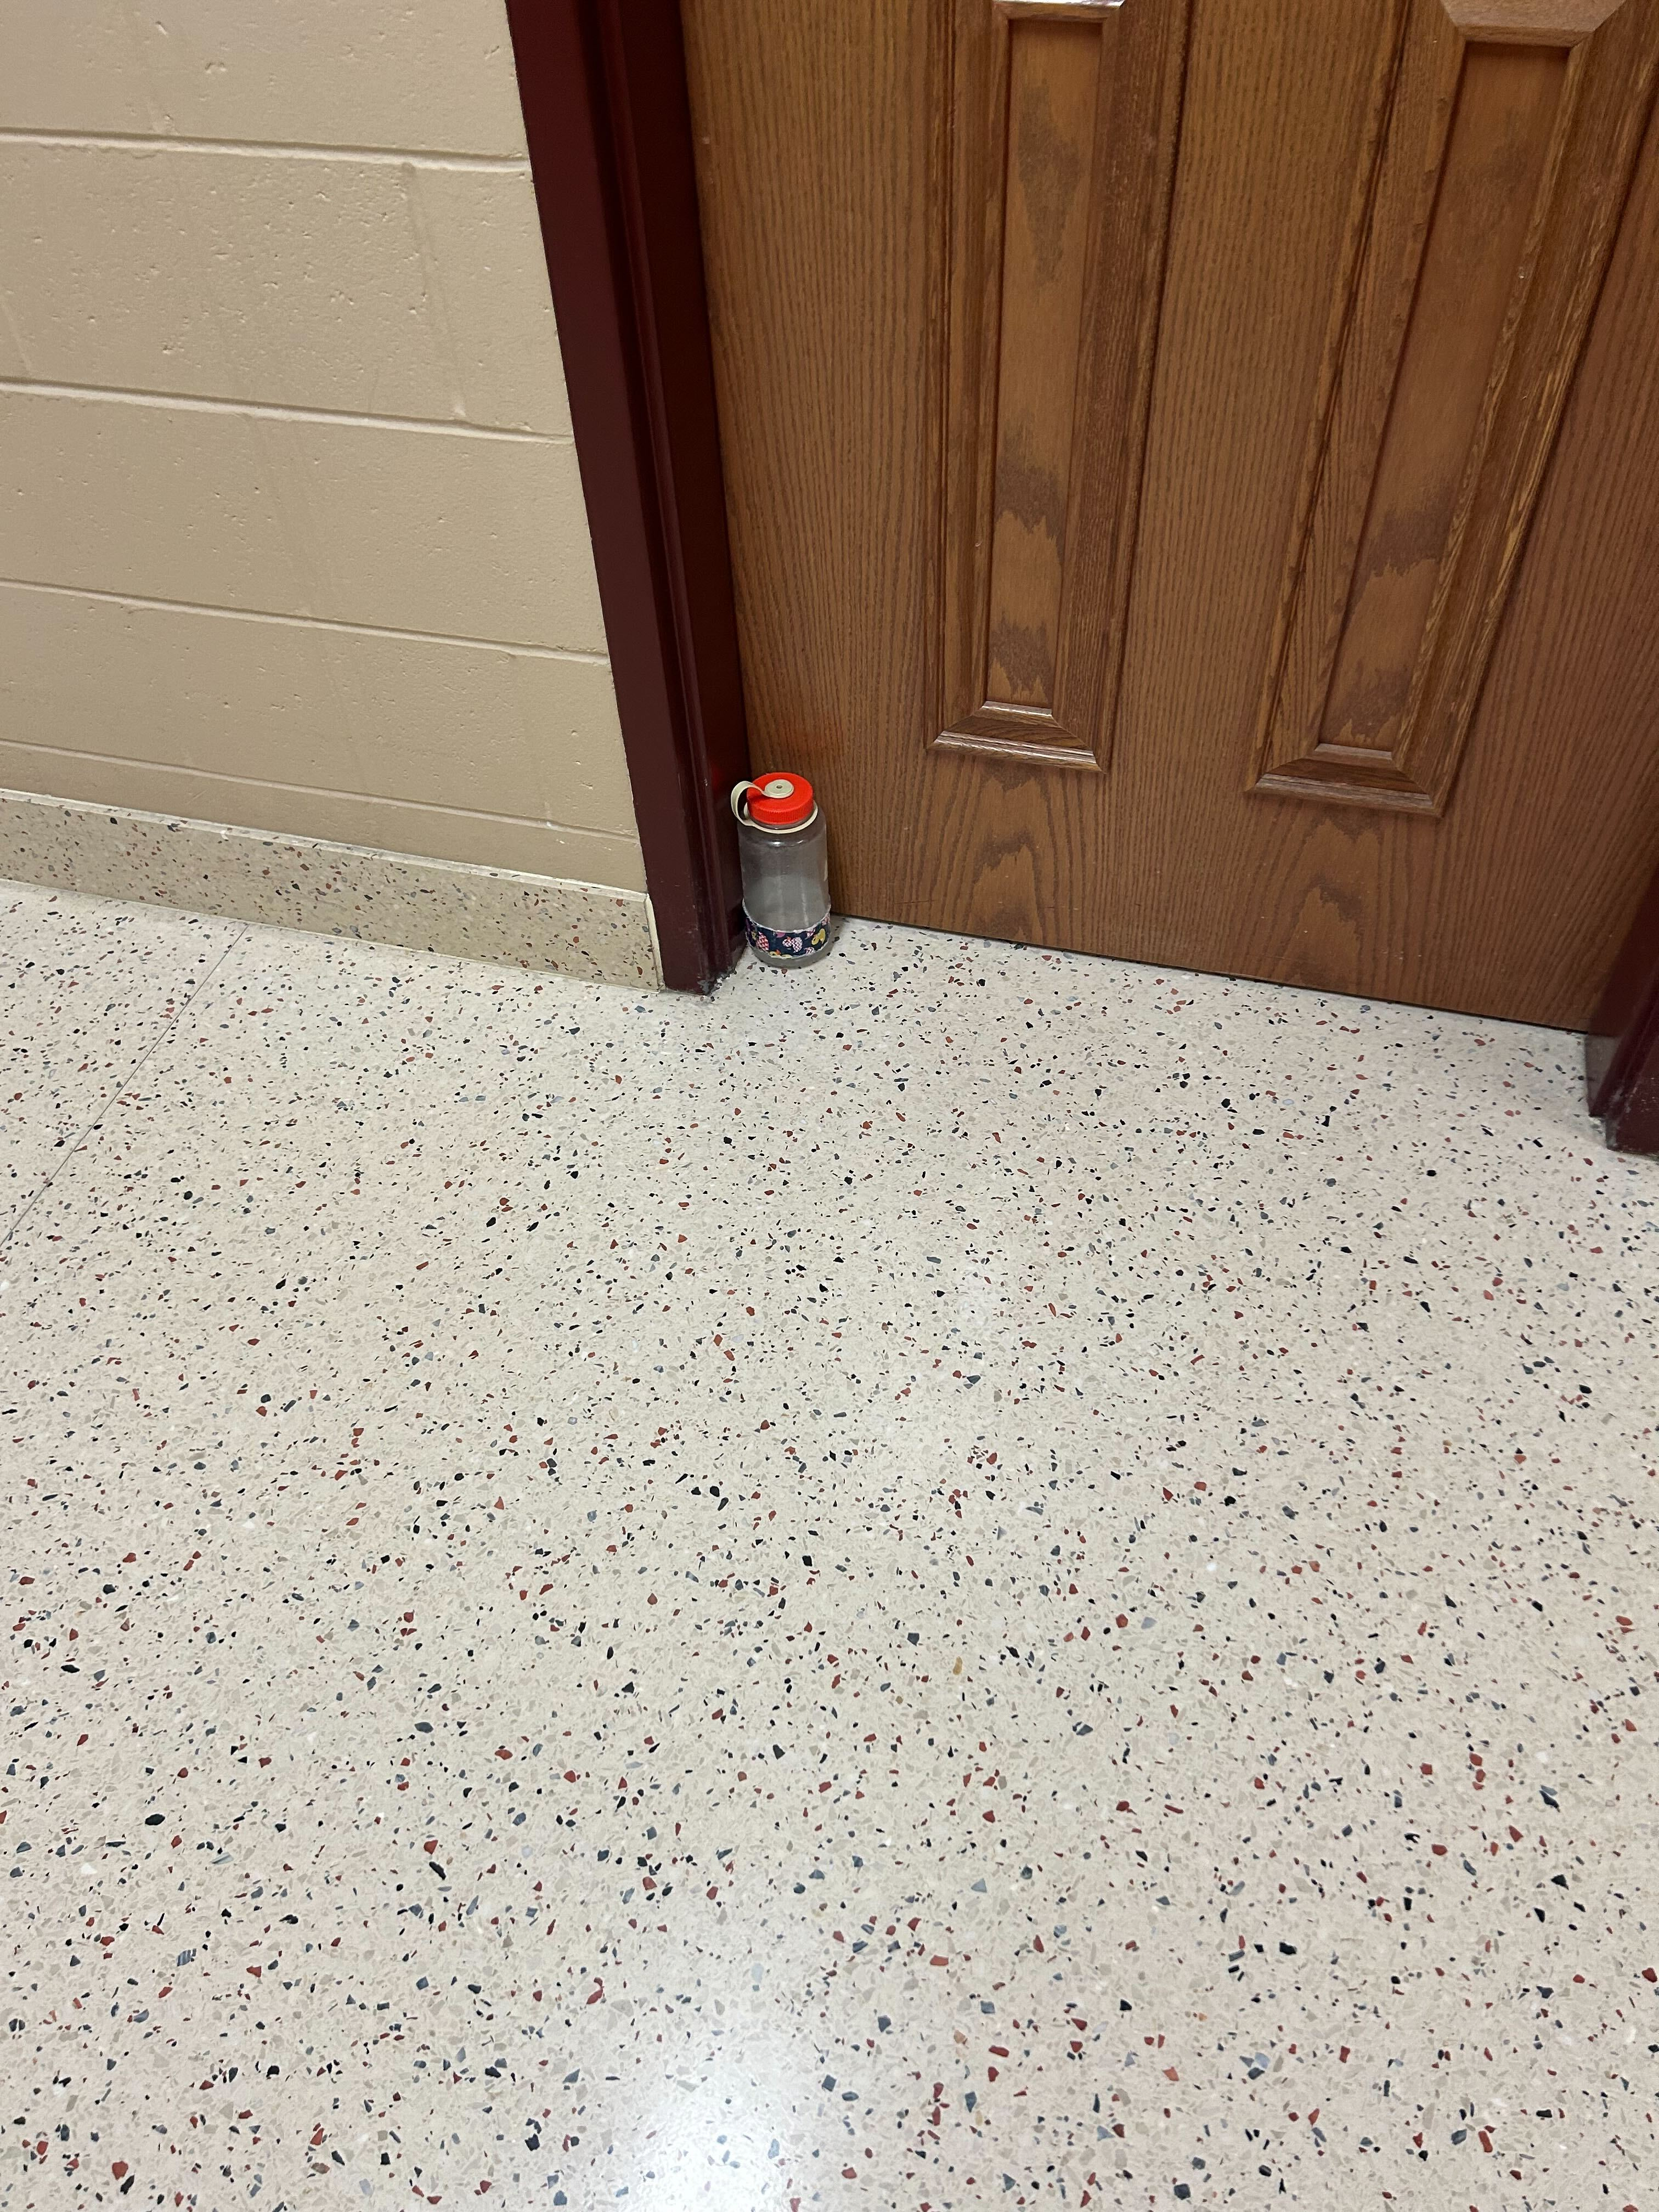bottle: (725, 768, 836, 977)
